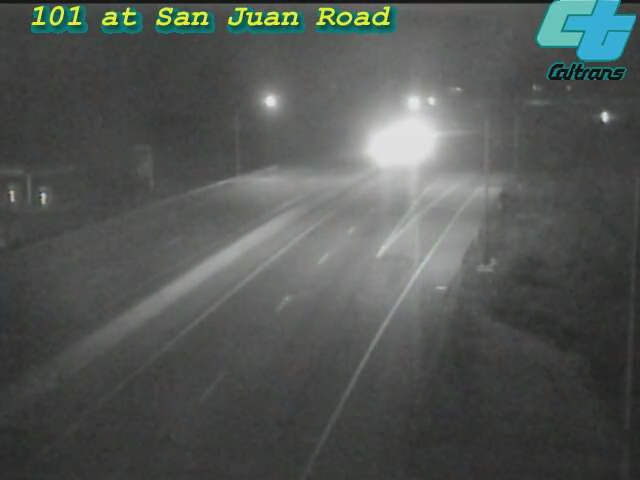vehicle: (580, 91, 630, 141), (352, 122, 402, 172), (377, 115, 427, 165)
